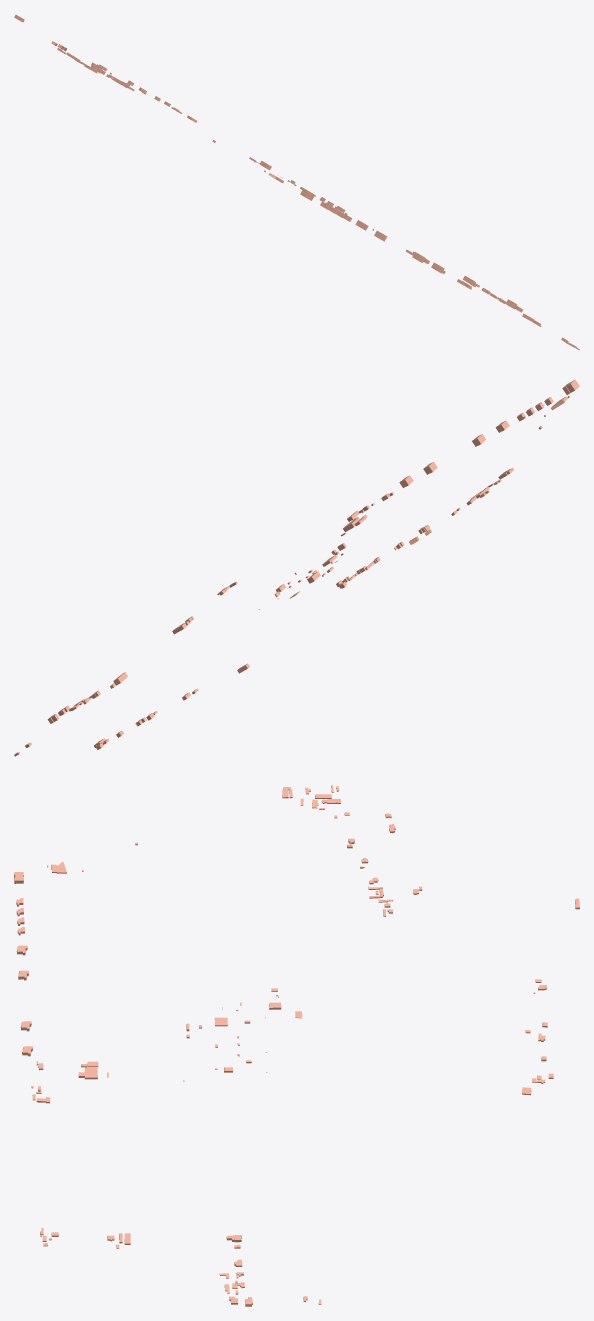
The picture shows the model from 3 angles, top to bottom: view 1: azimuth 30°, elevation 25°; view 2: azimuth 150°, elevation 25°; view 3: azimuth 270°, elevation 25°; orthographic projection. The views are drawn at different scales.
Bounding box in the file's own units: 982 × 744 × 1177.
